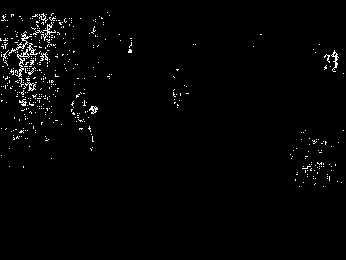person: (68, 91, 98, 151)
